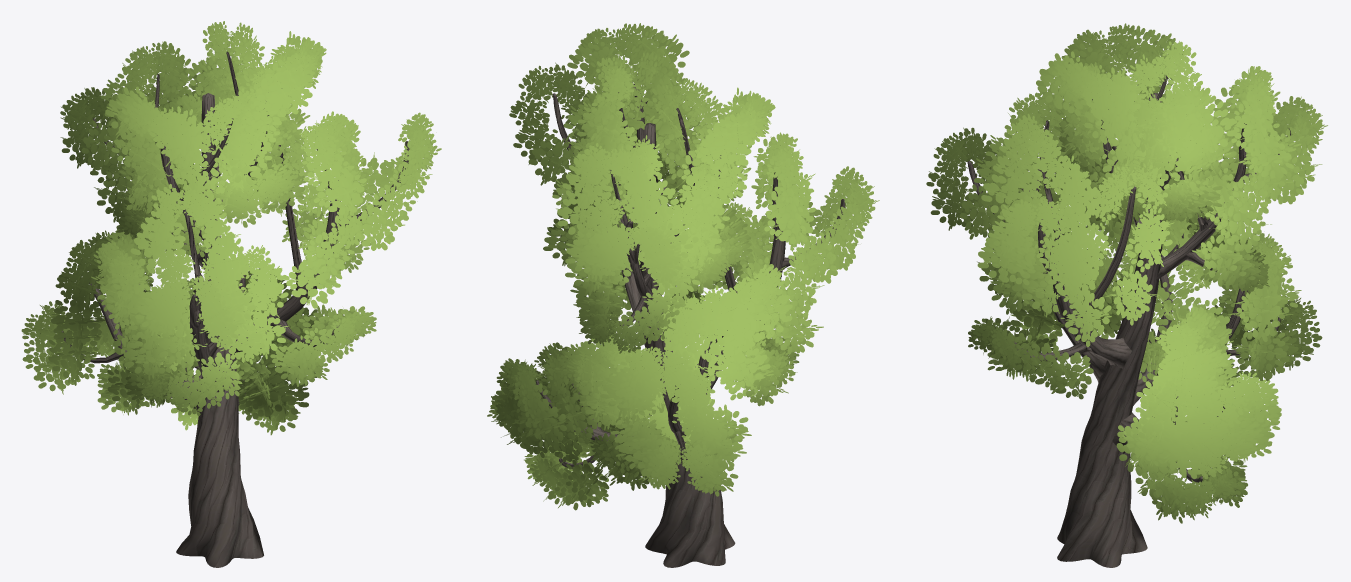
The model's file is nktwisted3.glb.
3 renders of one model, left to right at view 1: azimuth 30°, elevation 25°; view 2: azimuth 150°, elevation 25°; view 3: azimuth 270°, elevation 25°, orthographic. The views are drawn at different scales.
Visible parts, largest first — view 1: TwistedTree_3; view 2: TwistedTree_3; view 3: TwistedTree_3.
Part boxes in pixels (x1,y1,x2,y2): TwistedTree_3: (21,21,441,567); TwistedTree_3: (487,23,879,567); TwistedTree_3: (926,23,1327,567).
Bounding box in the file's own units: 11.36 × 16.07 × 11.51.
Materials: 2 (2 with a texture image).
